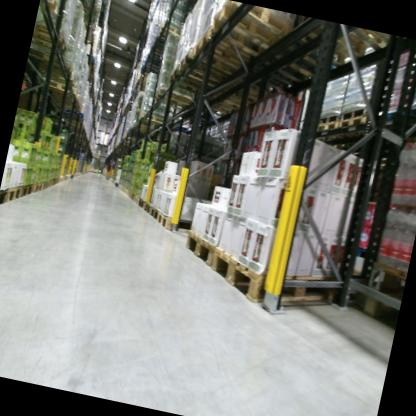pallet: (205, 227, 368, 328), (189, 23, 261, 87), (206, 0, 296, 49), (175, 45, 254, 93), (309, 116, 366, 162), (165, 60, 223, 105), (177, 222, 220, 271), (25, 46, 77, 80), (148, 81, 194, 116), (30, 21, 70, 57), (336, 109, 374, 145), (153, 210, 195, 236), (40, 73, 79, 99), (153, 18, 180, 45), (137, 109, 168, 128), (38, 0, 63, 19), (404, 94, 416, 130), (5, 182, 23, 206), (18, 180, 34, 200), (0, 184, 10, 209), (141, 200, 157, 215), (30, 179, 43, 195), (148, 206, 159, 220), (137, 197, 147, 209), (40, 178, 49, 191), (134, 193, 141, 207)
pallet_truck: (103, 156, 116, 182)
